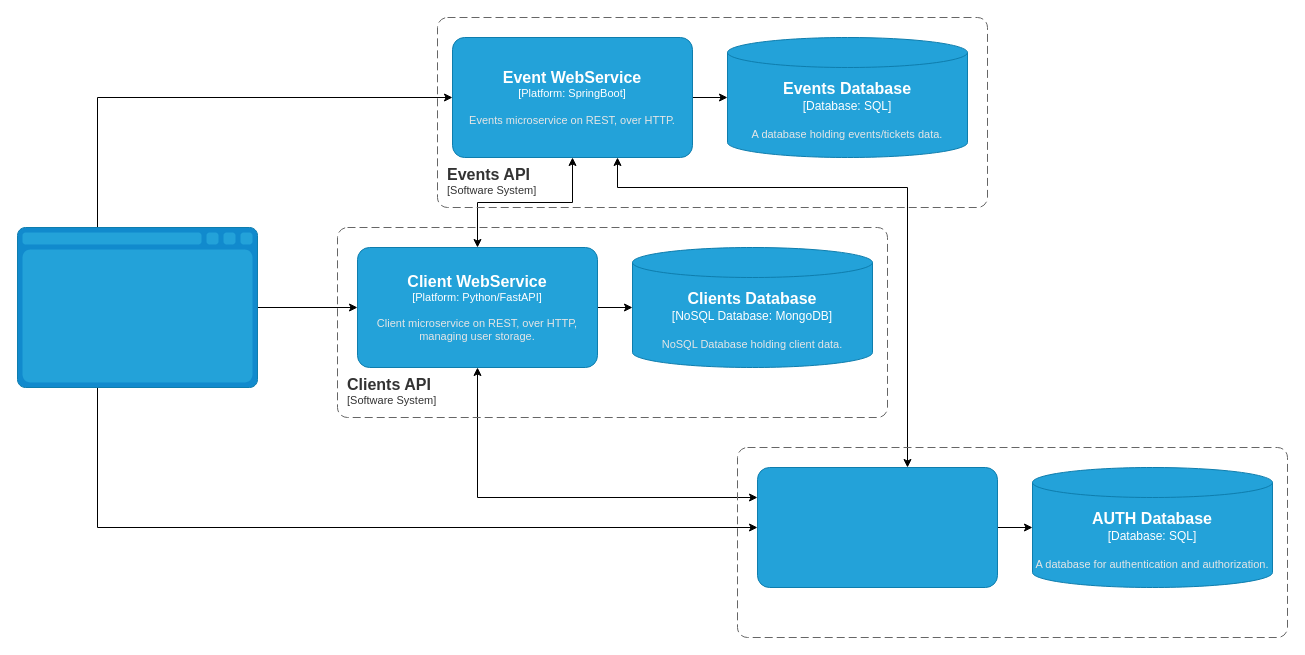
This 1305x655 diagram has some shape labels left out. The box of each missing label's shape, as (x1, y1, x2, y2) in pixels:
Auth API [Software System]: (736, 446, 1288, 638)
Auth Service [Framework: gRPC] JWT Authorization Service.: (756, 466, 998, 588)
Web Application [Client: JavaScript] Client for the gRPC and Rest services.: (16, 226, 258, 388)
